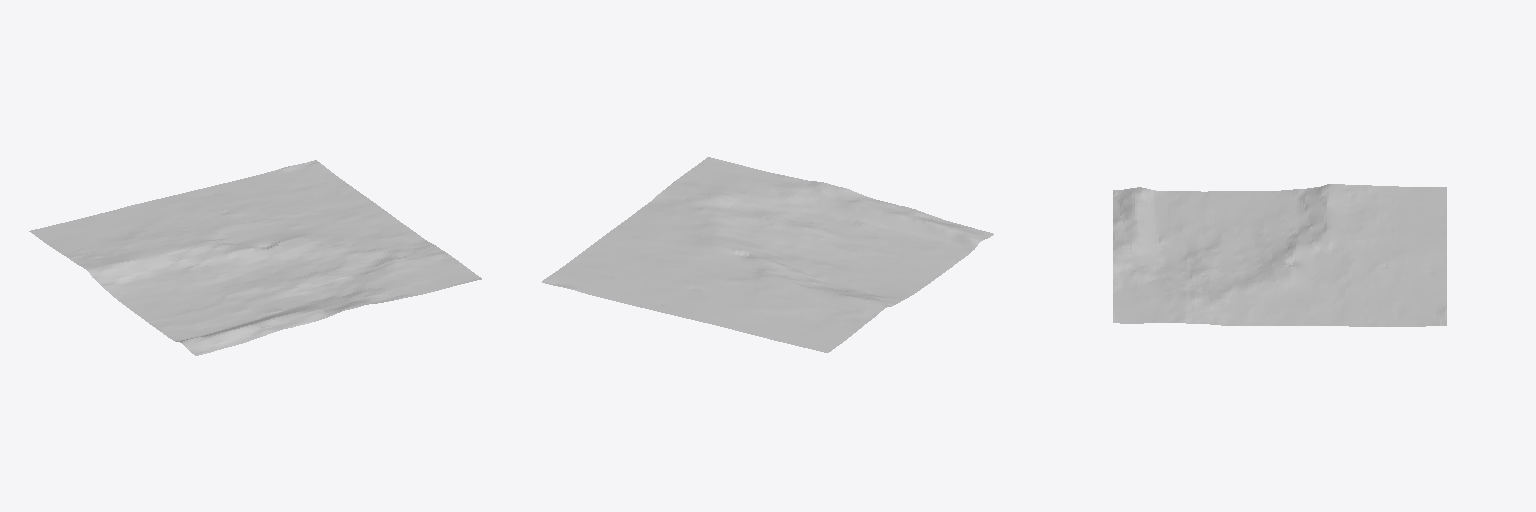
Rendered from marsTerrain2.obj.
3 renders of one model, left to right at view 1: azimuth 30°, elevation 25°; view 2: azimuth 150°, elevation 25°; view 3: azimuth 270°, elevation 25°, orthographic.
Size of the model in its own units: 138 by 5.23 by 139.